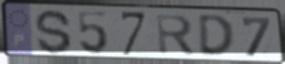5: (77, 9, 110, 56)
7: (240, 15, 273, 59), (120, 10, 150, 57)
D: (196, 13, 237, 59)
R: (154, 13, 197, 58)
S: (33, 9, 73, 56)
